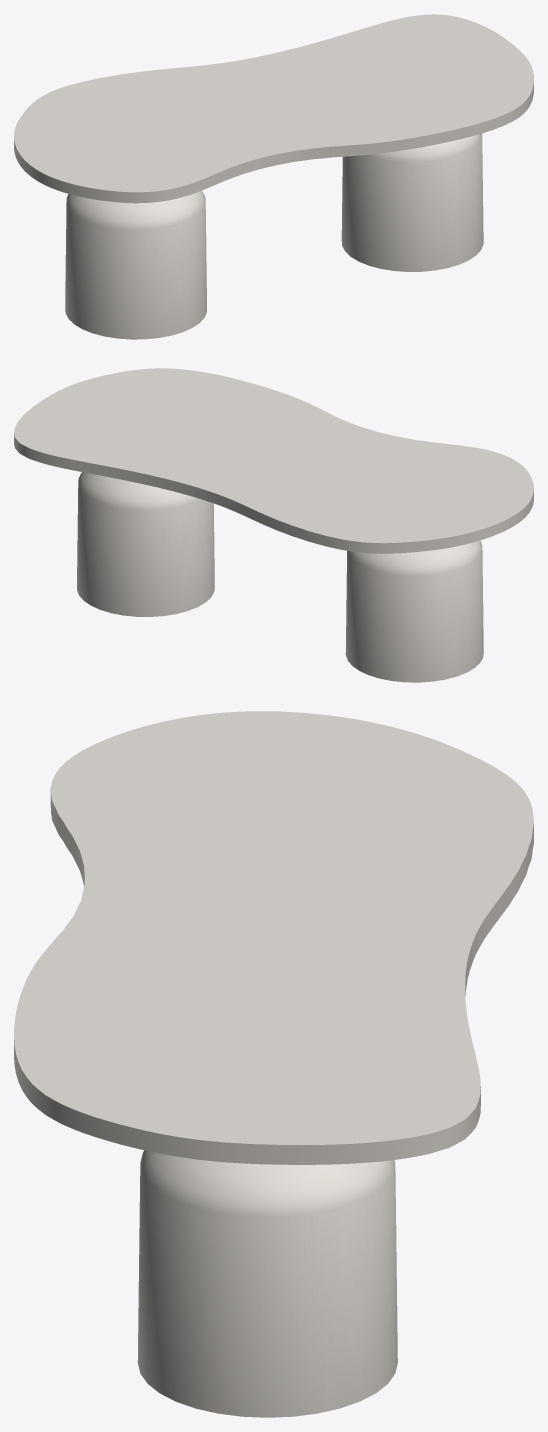
File: pearlwhite_wave_standard_tornado.glb
3 views of the same model, one above another, from view 1: azimuth 30°, elevation 25°; view 2: azimuth 150°, elevation 25°; view 3: azimuth 270°, elevation 25° (orthographic). The views are drawn at different scales.
Visible parts, largest first — view 1: standard_wave, tornado; view 2: standard_wave, tornado; view 3: standard_wave, tornado.
Boxes of the visible parts, x1=… form: standard_wave: x1=14, y1=14, x2=533, y2=203; tornado: x1=65, y1=133, x2=483, y2=339; standard_wave: x1=14, y1=368, x2=533, y2=553; tornado: x1=77, y1=472, x2=483, y2=682; standard_wave: x1=14, y1=711, x2=533, y2=1164; tornado: x1=137, y1=1150, x2=397, y2=1417.
Size of the model in its own units: 7.5 by 2.51 by 3.8.
1 material, 1 textured.
